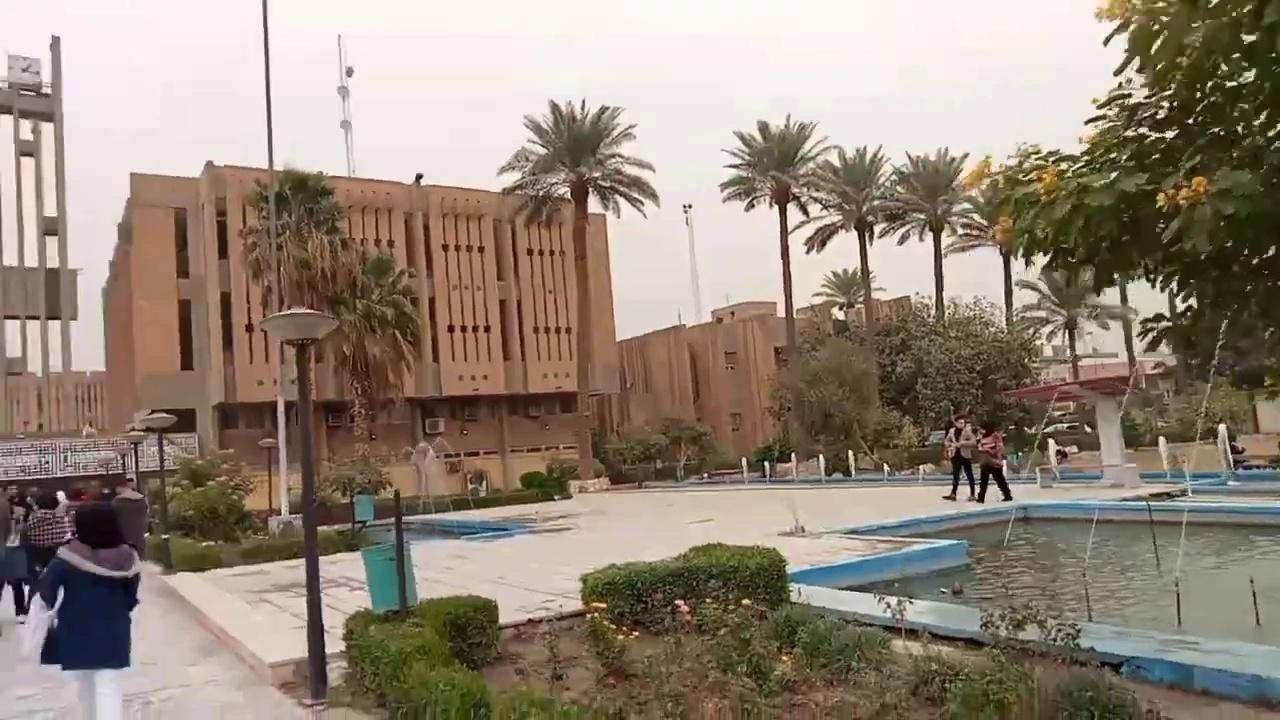car: (1040, 421, 1094, 436)
fountain: (781, 254, 1278, 713), (783, 492, 1279, 711)
person: (27, 501, 142, 719), (0, 483, 29, 624), (975, 419, 1013, 502), (941, 414, 977, 501)
tree: (985, 0, 1279, 440), (495, 96, 660, 477), (237, 165, 422, 503), (717, 113, 835, 461), (872, 295, 1040, 443), (789, 142, 908, 326), (496, 96, 660, 225), (762, 327, 882, 476), (876, 145, 975, 322), (1012, 254, 1135, 385), (943, 173, 1031, 336), (148, 451, 258, 544), (811, 266, 881, 322), (658, 414, 710, 481)
